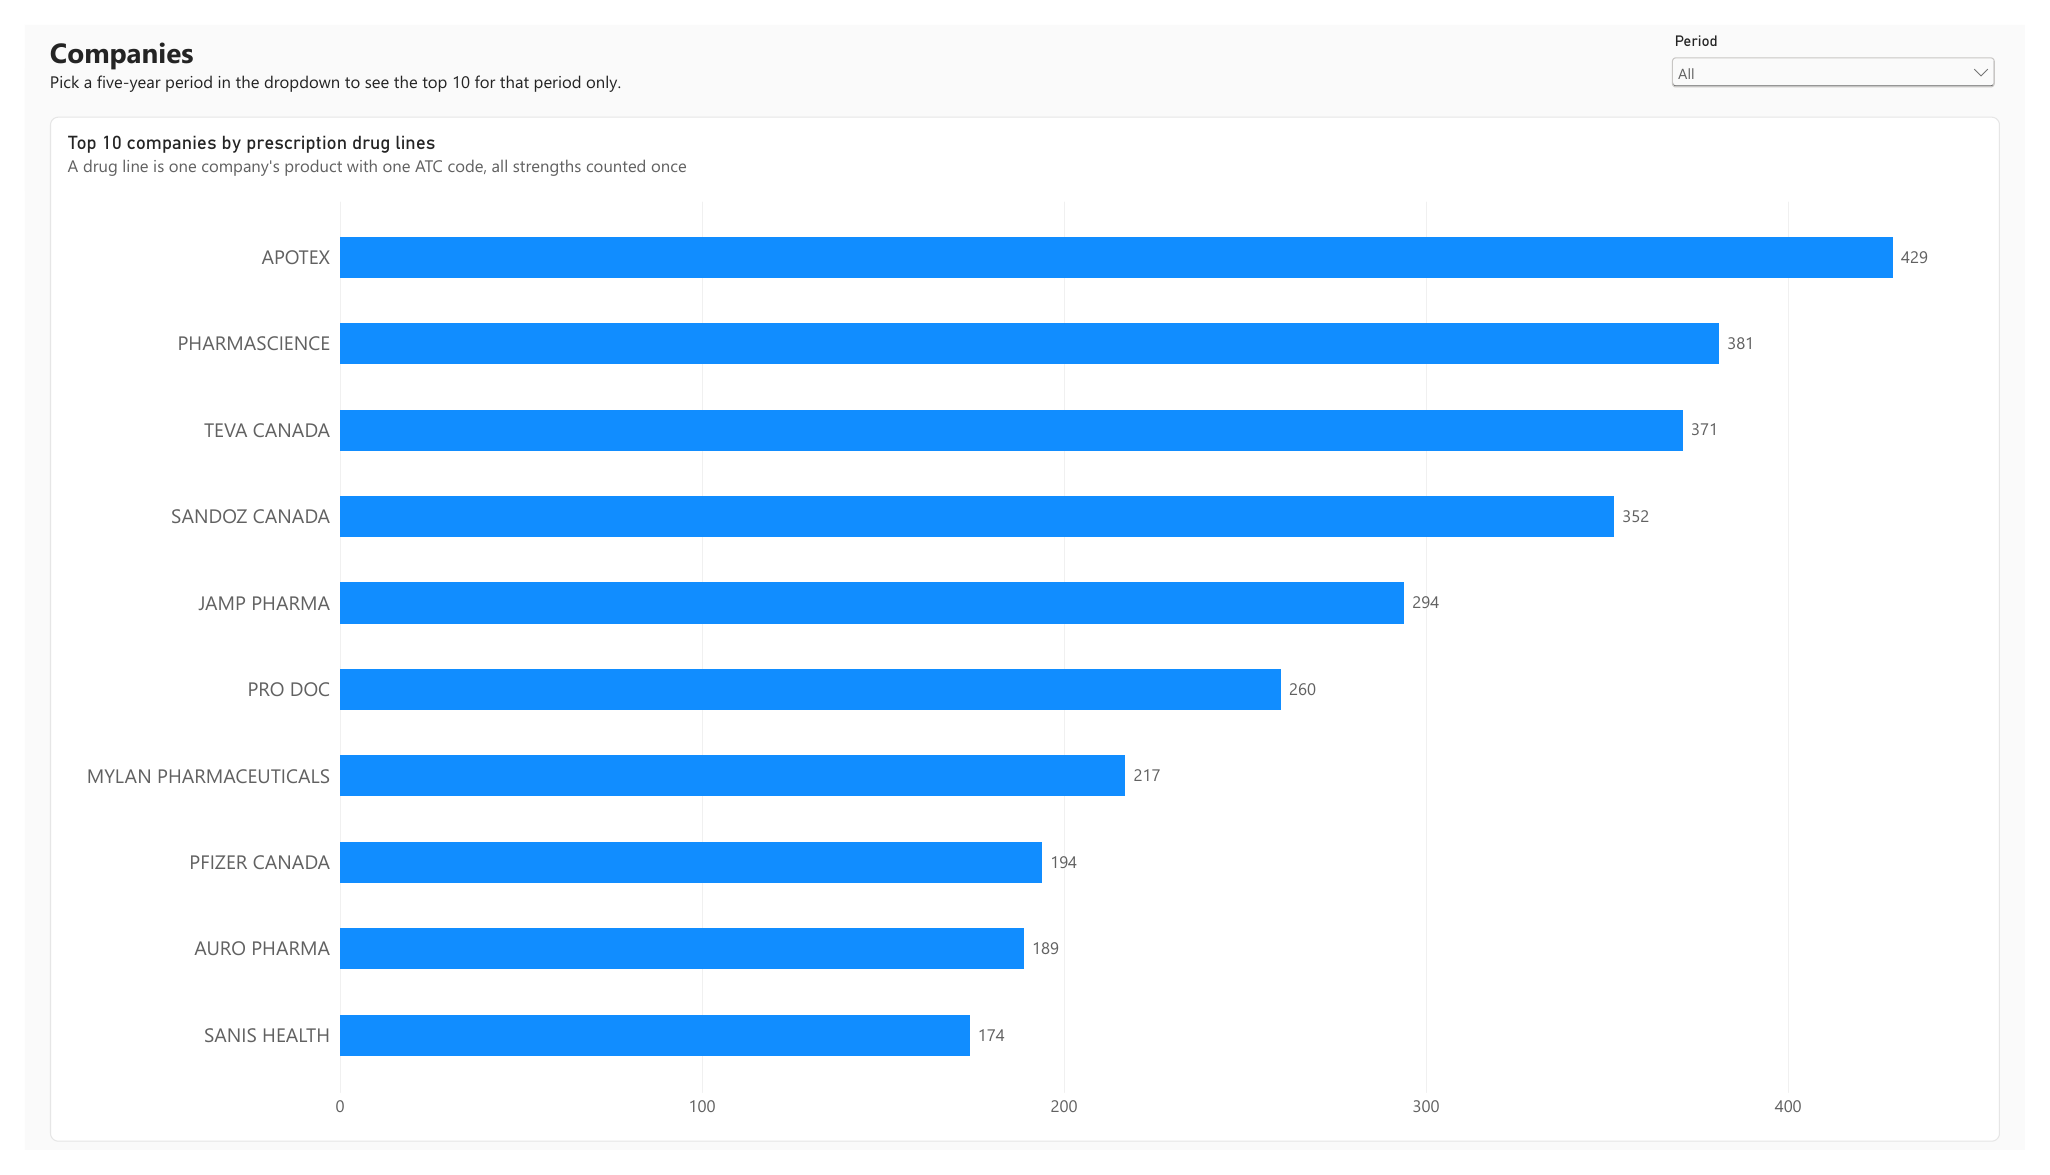

This screenshot's page, from the dashboard's own definition file:
{"tool":"powerbi","page":{"name":"Companies","canvas":[1920,1080],"ordinal":0},"visuals":[{"type":"textbox","box":[24,8,1520,72],"z":0},{"type":"clusteredBarChart","title":"Top 10 companies by prescription drug lines","fields":{"Category":["drug_lines.company_group"],"Y":["_Measures.Rx Drug Lines"]},"box":[24,88,1872,984],"z":1},{"type":"slicer","fields":{"Values":["Date.Period"]},"box":[1576,8,320,72],"z":2}]}

Visuals, with their boxes in screenshot pixels (x1, y1, x2, y2), scaled from the page's 1920x1080 canvas onto the 2050x1175 screenshot:
textbox: 26 9 1649 87
"Top 10 companies by prescription drug lines" clusteredBarChart: 26 96 2024 1166
slicer - Date.Period: 1683 9 2024 87
